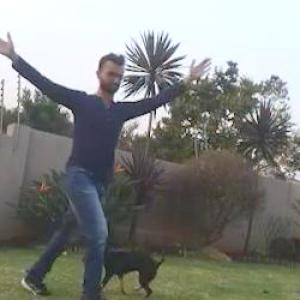takeoff: (0, 35, 172, 283)
